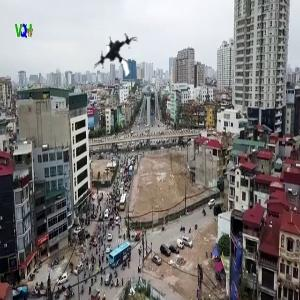drone: (90, 32, 146, 88)
